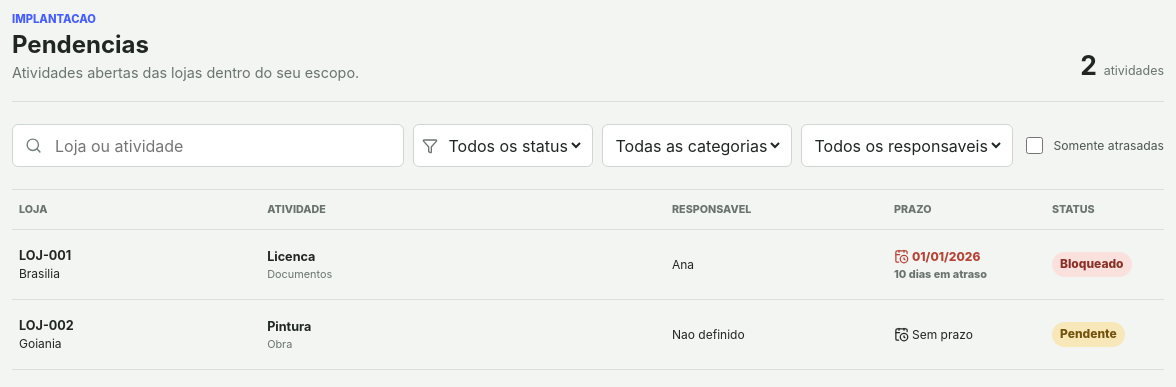
Scenario: PendingItemsPage › filtra pendencias por status e atraso
Expected: the text "Licenca" is shown, [267,248,315,264]
Step 1. Select "Pendente" in the dropdown named "Filtrar por status" → (514, 146), box [444,125,584,166]
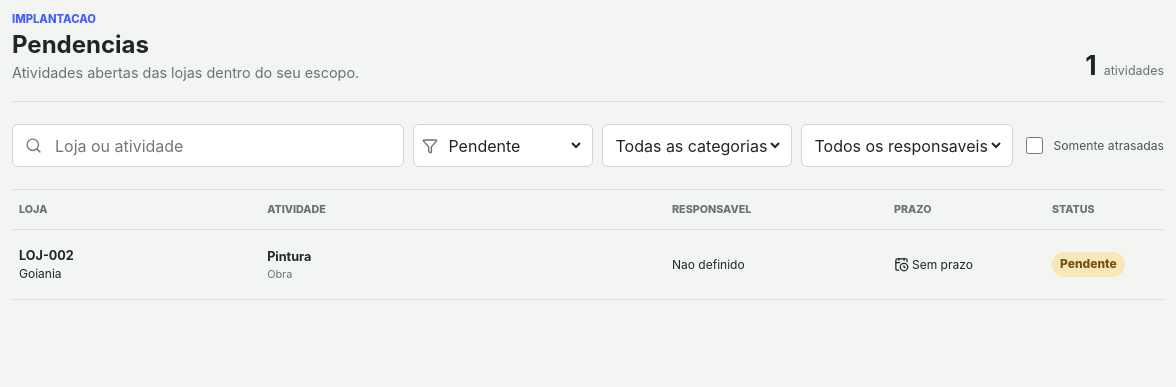
Expected: the text "Pintura" is shown, [267,248,311,264]
Result: the link "Licenca" is gone
Step 2. Select "Todos os status" in the dropdown named "Filtrar por status" → (514, 146), box [444,125,584,166]
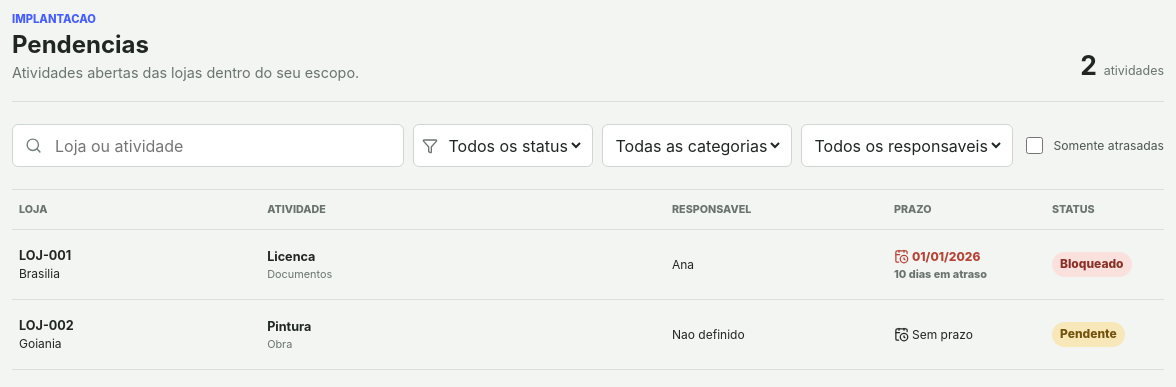
Step 3. Click the text "Somente atrasadas" → (1093, 146), box [1022,134,1164,157]
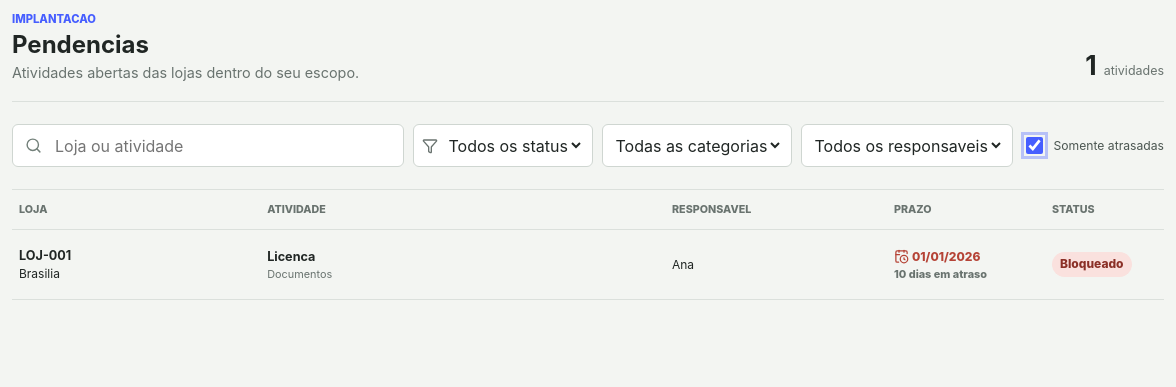
Result: the text "Licenca" is shown at [267,248,315,264]
Result: the link "Pintura" is gone
